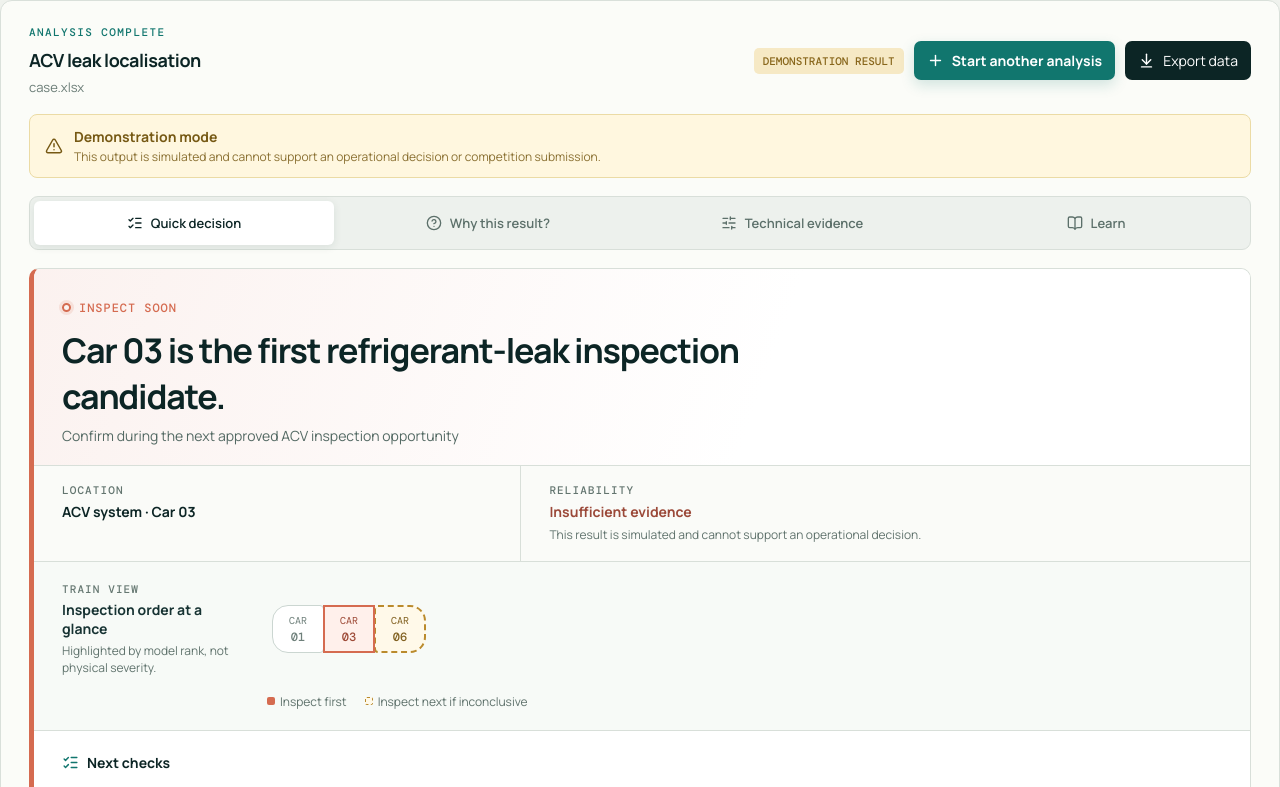
Scenario: ResultPanel progressive disclosure › separates why, technical evidence and learning content
Click the button "Why this result?": {"x": 488, "y": 223} [338,201,638,245]
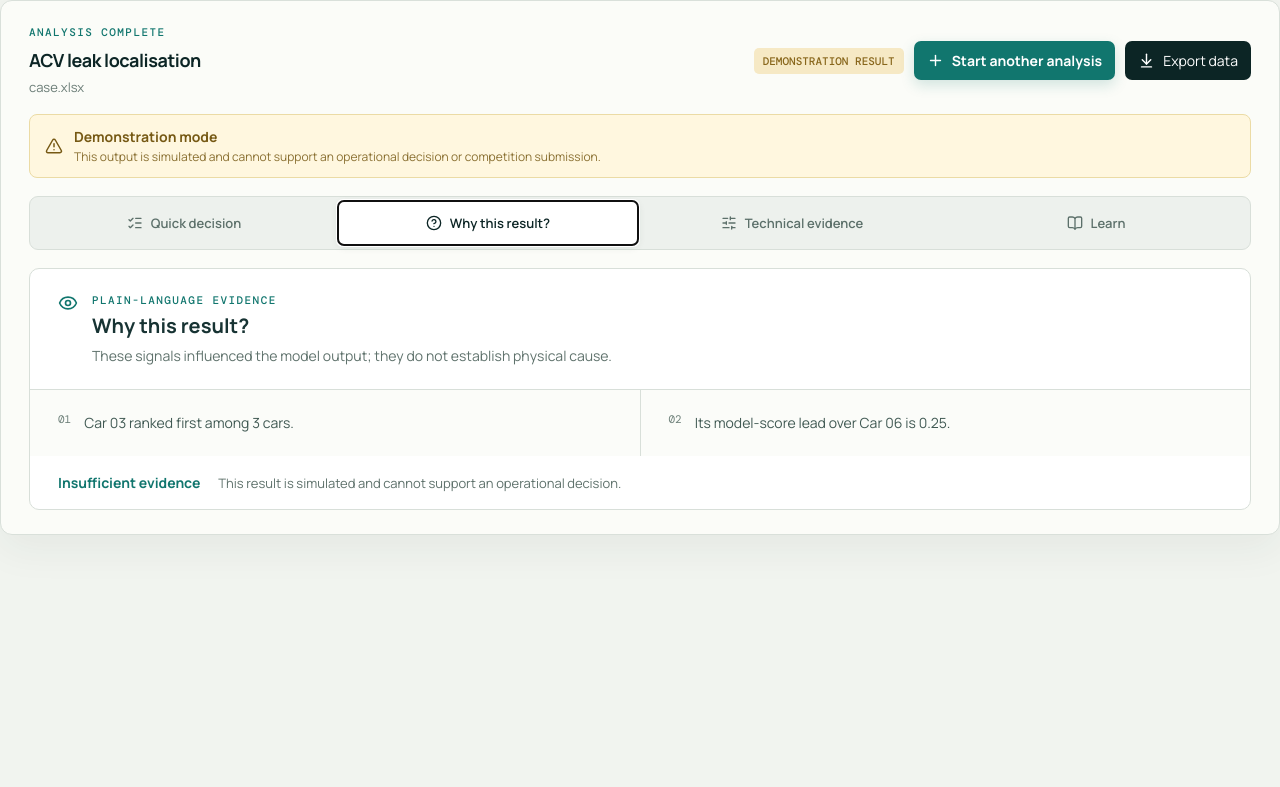
Expected: the heading "Why this result?" is shown, [92,312,249,339]
Expected: the text "do not establish physical cause" is shown, [92,346,612,365]
Click the button "Technical evidence": {"x": 792, "y": 223} [642,201,942,245]
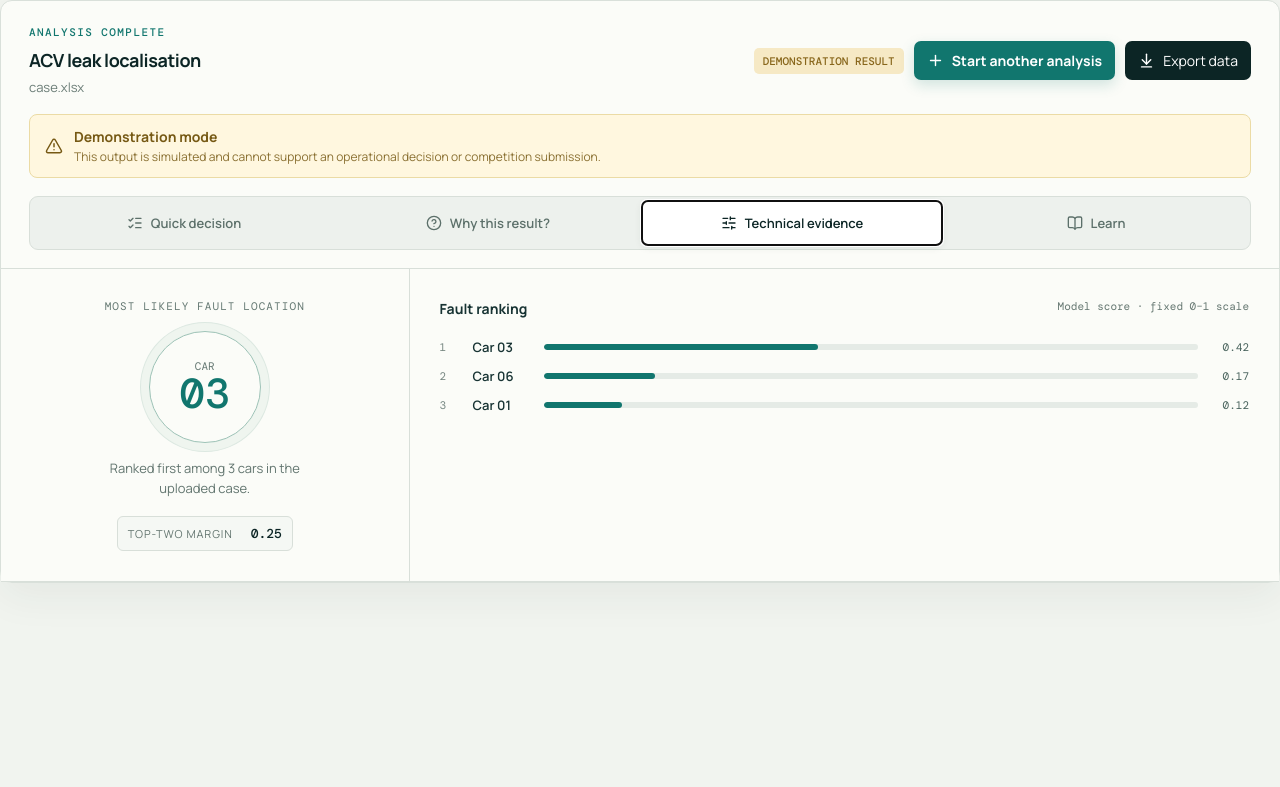
Expected: the text "Fault ranking" is shown, [440,299,527,318]
Expected: the text "Top-two margin" is shown, [128,526,233,541]
Click the button "Learn": {"x": 1096, "y": 223} [946,201,1246,245]
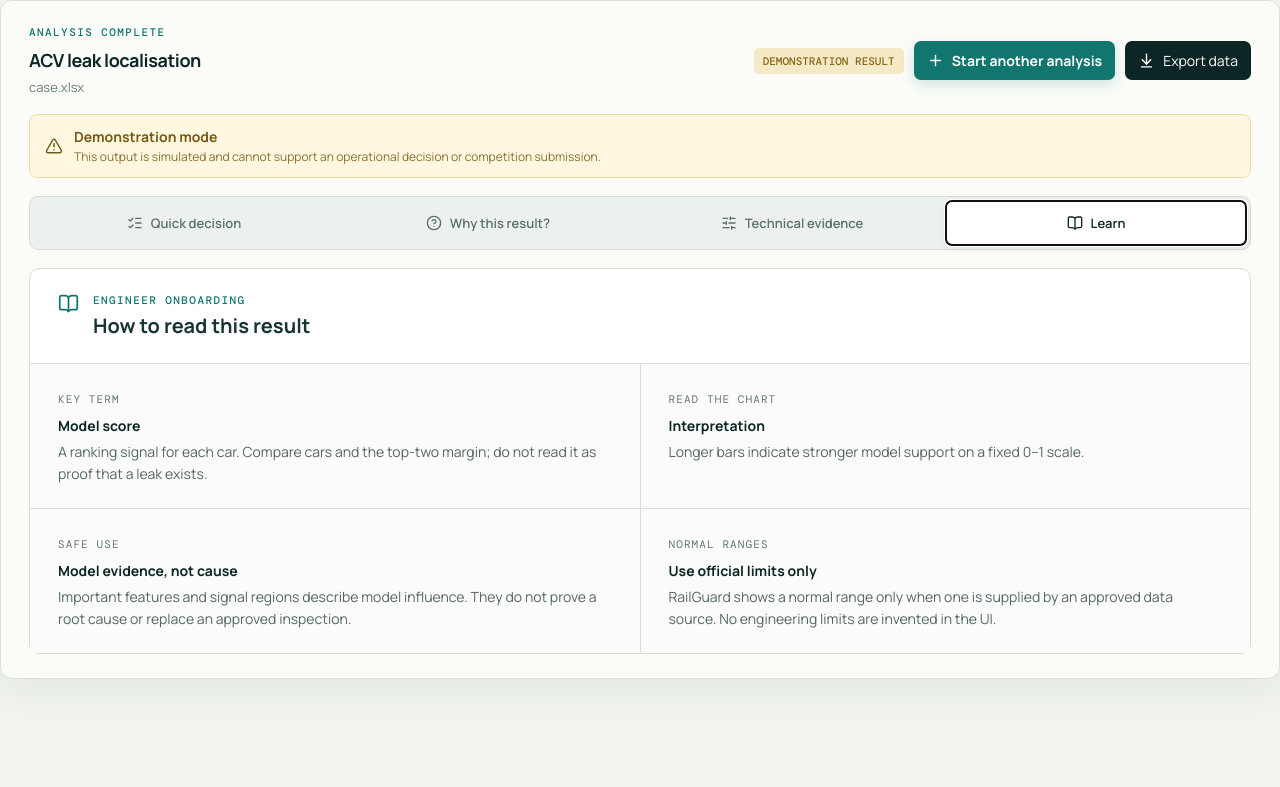
Expected: the heading "How to read this result" is shown, [93,312,310,339]
Expected: the heading "Use official limits only" is shown, [668,561,817,580]
